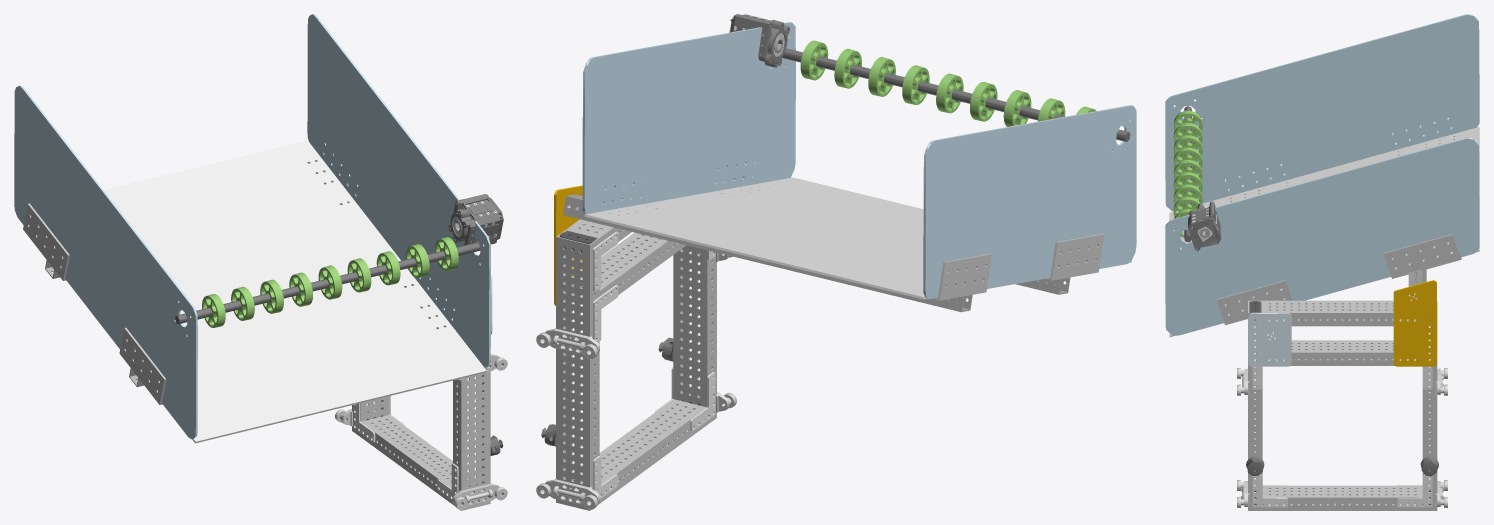
3 views of the same model, side by side, from view 1: azimuth 30°, elevation 25°; view 2: azimuth 150°, elevation 25°; view 3: azimuth 270°, elevation 25° (orthographic). The views are drawn at different scales.
Parts seen in each view (by area): view 1: geometry_3, geometry_8, geometry_4, geometry_7, geometry_5, geometry_10, geometry_12, geometry_0; view 2: geometry_8, geometry_4, geometry_3, geometry_7, geometry_6, geometry_12, geometry_0, geometry_5, geometry_10, geometry_1; view 3: geometry_8, geometry_4, geometry_1, geometry_7, geometry_3, geometry_2, geometry_0, geometry_12, geometry_10, geometry_5.
Boxes of the visible parts, <box> form: geometry_3: <box>104,140,496,443</box>; geometry_8: <box>14,14,490,439</box>; geometry_4: <box>23,161,490,510</box>; geometry_7: <box>202,237,458,327</box>; geometry_5: <box>175,242,503,455</box>; geometry_10: <box>448,194,503,245</box>; geometry_12: <box>335,354,507,509</box>; geometry_0: <box>353,395,475,500</box>; geometry_8: <box>582,22,1136,298</box>; geometry_4: <box>556,219,1104,510</box>; geometry_3: <box>584,16,1131,299</box>; geometry_7: <box>800,40,1096,126</box>; geometry_6: <box>563,194,1070,312</box>; geometry_12: <box>536,251,736,509</box>; geometry_0: <box>567,205,715,499</box>; geometry_5: <box>541,48,1130,446</box>; geometry_10: <box>729,14,789,67</box>; geometry_1: <box>554,185,582,305</box>; geometry_8: <box>1165,14,1479,335</box>; geometry_4: <box>1216,118,1461,510</box>; geometry_1: <box>1393,280,1437,366</box>; geometry_7: <box>1173,110,1202,237</box>; geometry_3: <box>1169,127,1479,337</box>; geometry_2: <box>1248,313,1291,366</box>; geometry_0: <box>1252,293,1432,507</box>; geometry_12: <box>1237,368,1447,507</box>; geometry_10: <box>1188,201,1221,251</box>; geometry_5: <box>1184,106,1438,476</box>.
Size of the model in its own units: 0.6318 by 0.6786 by 0.549.
